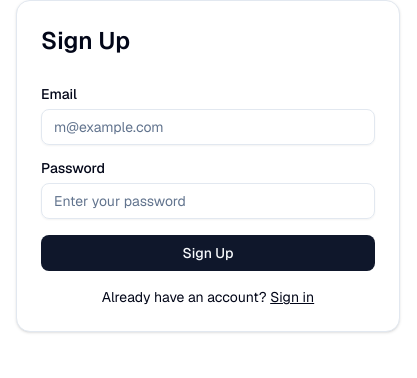
Test: SignupForm › when user enters invalid data › should validate password requirements
// Enter weak password
In the field labelled "Email": (208, 127) [41,109,375,145], type "test@example.com"
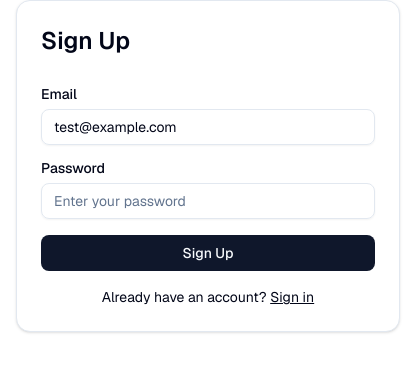
In the password field labelled "Password": (208, 201) [41,183,375,219], type "weak"
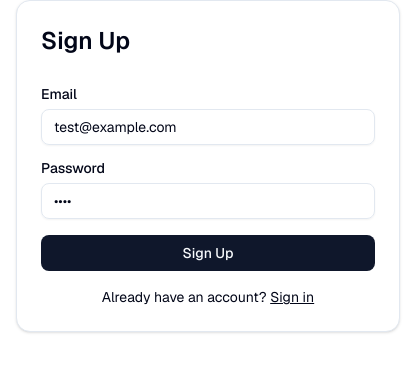
// Submit form
Click the button "Sign Up": (208, 253) [41,235,375,271]
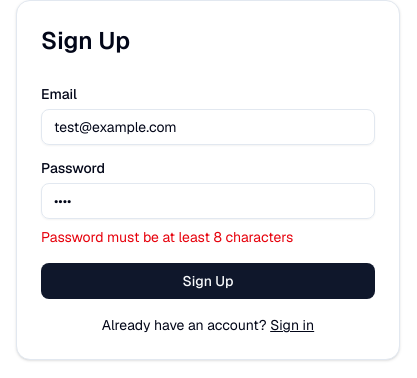
Expected: the text "Password must be at least 8 characters" is shown, [41,228,293,246]
